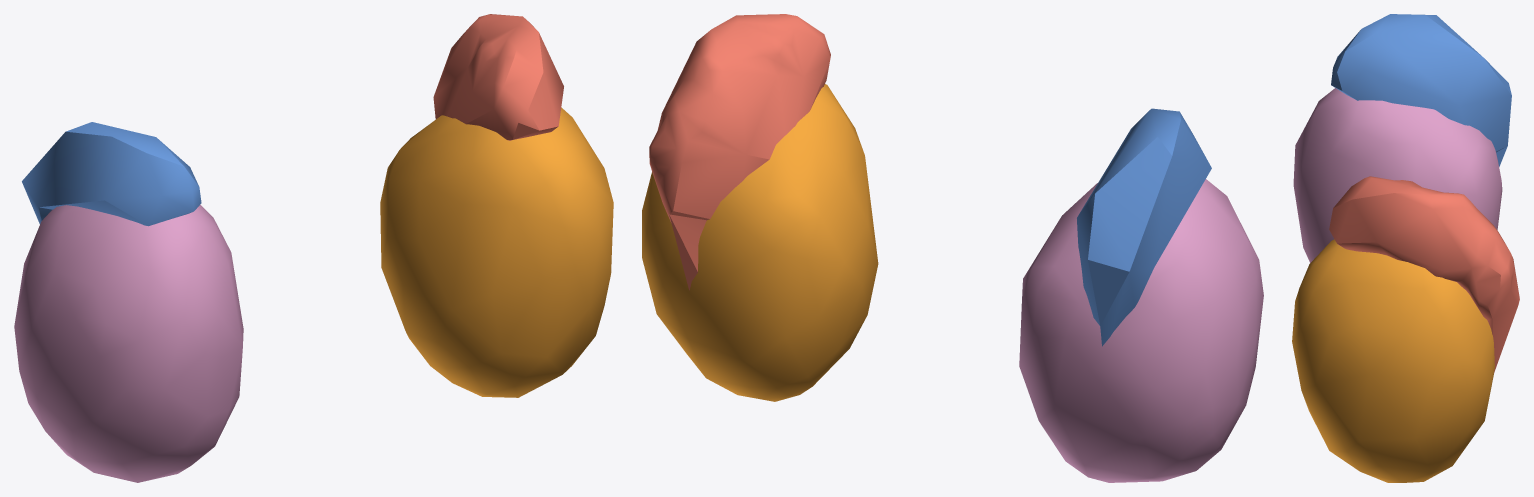
Rendered from testis.glb.
3 renders of one model, left to right at view 1: azimuth 30°, elevation 25°; view 2: azimuth 150°, elevation 25°; view 3: azimuth 270°, elevation 25°, orthographic. The views are drawn at different scales.
Visible parts, largest first — view 1: Left testis, Right testis, Right epididymis, Left epididymis; view 2: Right testis, Left testis, Left epididymis, Right epididymis; view 3: Left testis, Right testis, Left epididymis, Right epididymis.
Part boxes in pixels (x1,y1,x2,y2): Left testis: [380, 107, 613, 397]; Right testis: [14, 204, 243, 482]; Right epididymis: [22, 122, 201, 226]; Left epididymis: [433, 14, 563, 140]; Right testis: [1019, 179, 1263, 482]; Left testis: [642, 84, 878, 401]; Left epididymis: [649, 14, 830, 290]; Right epididymis: [1077, 108, 1211, 346]; Left testis: [1292, 239, 1494, 482]; Right testis: [1293, 88, 1502, 262]; Left epididymis: [1329, 176, 1519, 373]; Right epididymis: [1331, 14, 1511, 166].
Bounding box in the file's own units: 2 × 1.21 × 0.8282.
